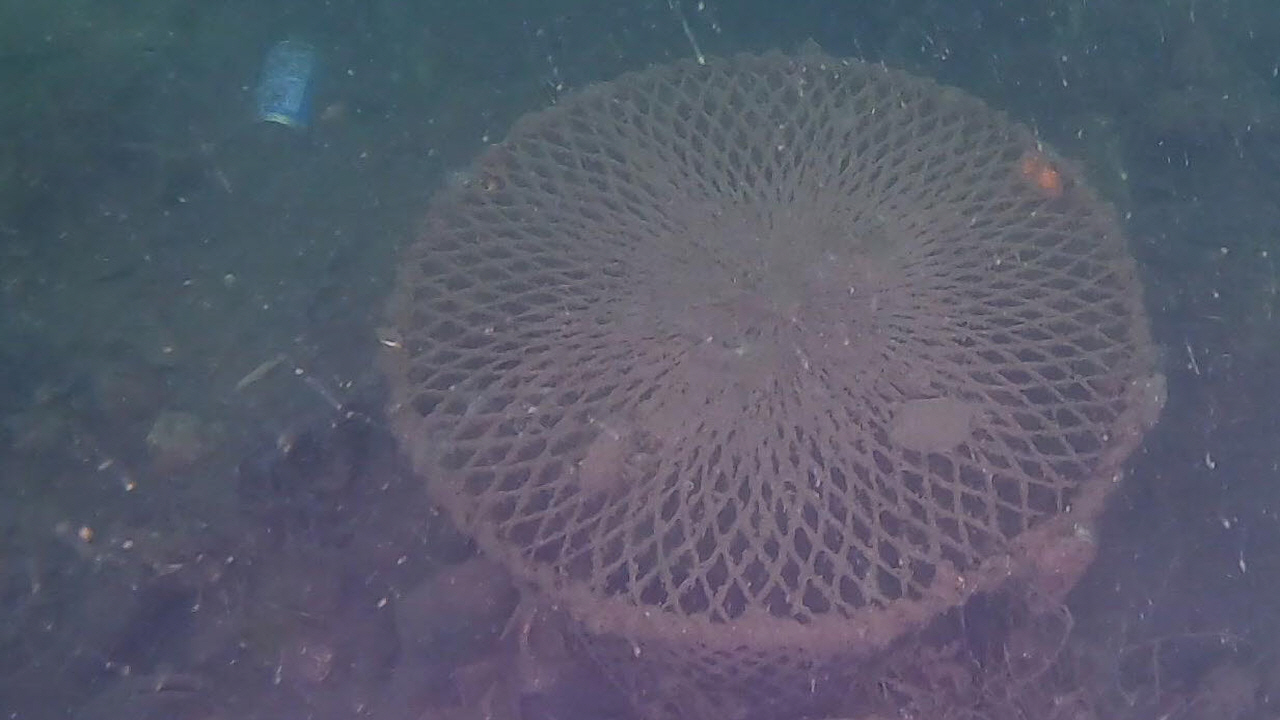circular fish trap: (381, 47, 1155, 720)
